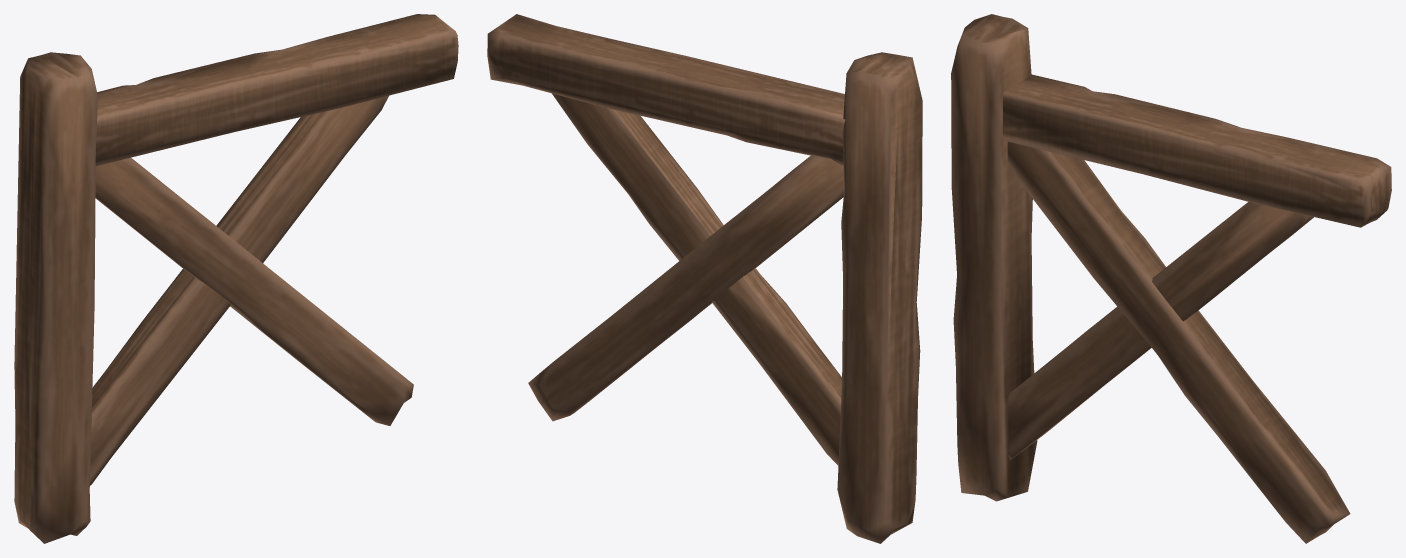
Rendered from SM_fence_small_01.fbx.
3 views of the same model, side by side, from view 1: azimuth 30°, elevation 25°; view 2: azimuth 150°, elevation 25°; view 3: azimuth 330°, elevation 25° (orthographic).
Visible parts, largest first — view 1: fence_small_01; view 2: fence_small_01; view 3: fence_small_01.
Part boxes in pixels (x1=…): fence_small_01: x1=14, y1=14, x2=458, y2=543; fence_small_01: x1=487, y1=14, x2=922, y2=543; fence_small_01: x1=951, y1=14, x2=1391, y2=543.
Bounding box in the file's own units: 178 × 191 × 28.35.
